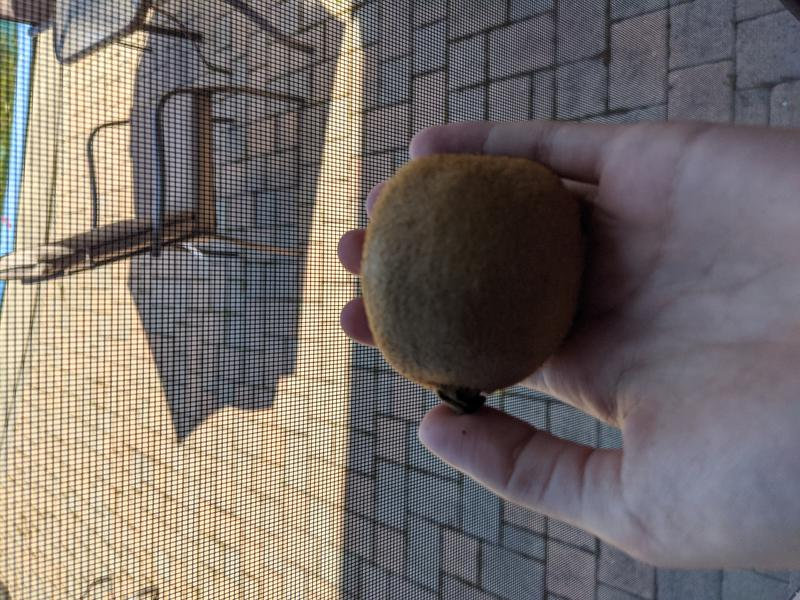kiwi: (359, 153, 580, 396)
